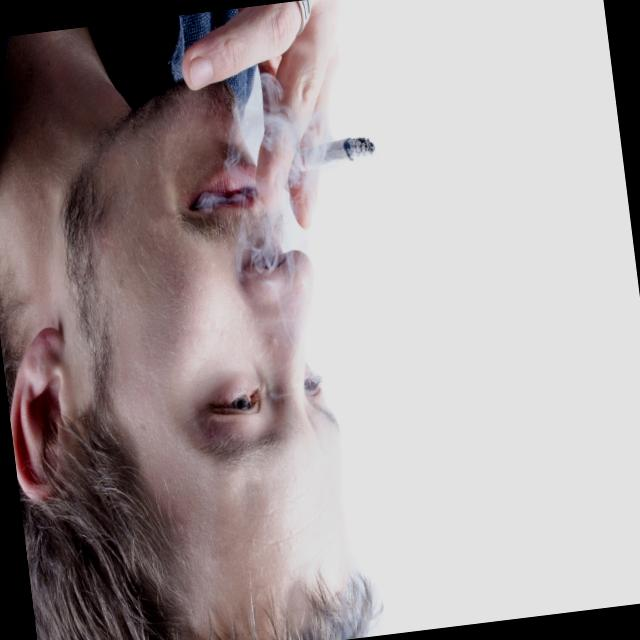cigarette: (289, 126, 387, 180)
